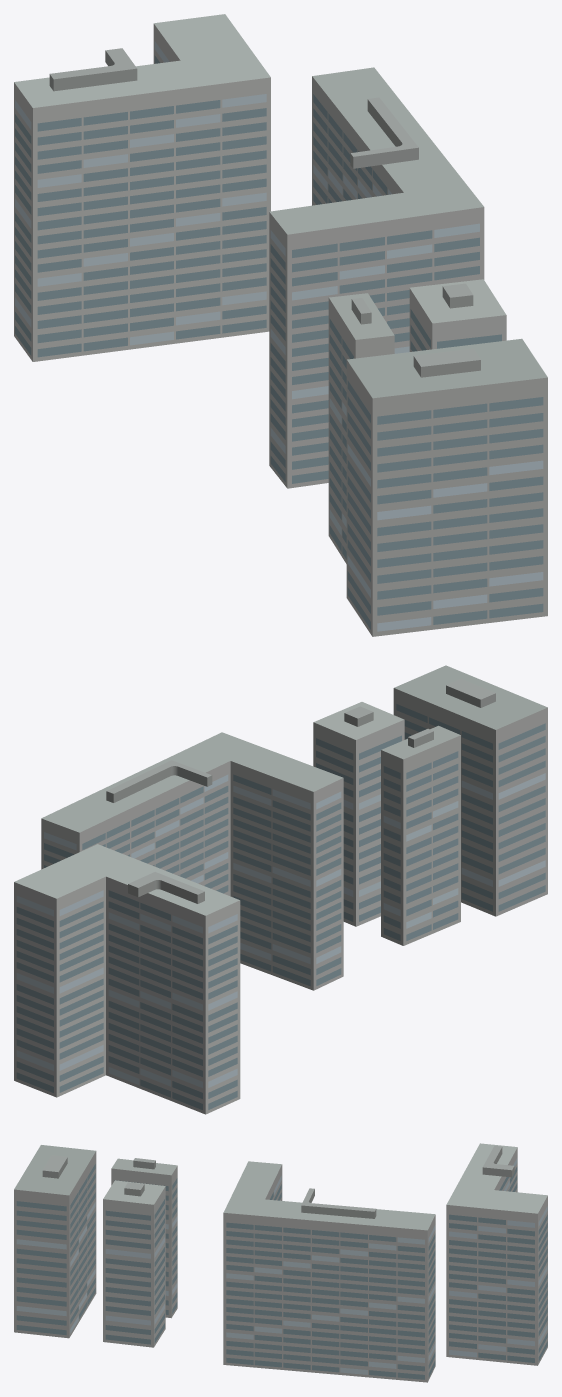
File: apt-a13787105.glb
3 views of the same model, one above another, from view 1: azimuth 30°, elevation 25°; view 2: azimuth 150°, elevation 25°; view 3: azimuth 270°, elevation 25° (orthographic). The views are drawn at different scales.
Parts seen in each view (by area): view 1: apt-a13787105; view 2: apt-a13787105; view 3: apt-a13787105.
Boxes of the visible parts, box(x1,y1,x2,y2) form: apt-a13787105: box(14, 14, 547, 636); apt-a13787105: box(14, 665, 547, 1114); apt-a13787105: box(14, 1143, 547, 1382).
Size of the model in its own units: 65.14 by 51 by 155.
